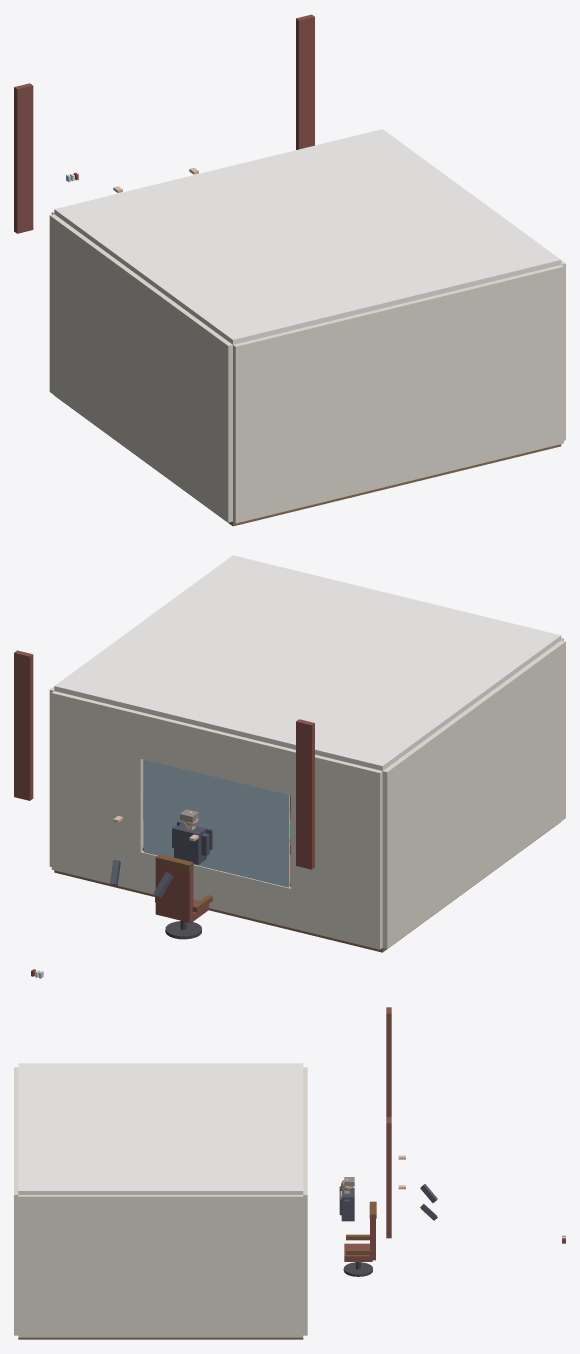
The model's file is maire-bureau.glb.
The picture shows the model from 3 angles, top to bottom: view 1: azimuth 30°, elevation 25°; view 2: azimuth 150°, elevation 25°; view 3: azimuth 270°, elevation 25°; orthographic projection. The views are drawn at different scales.
Parts seen in each view (by area): view 1: part_ceiling, part_wall_B, part_wall_L, part_curtain_l, part_curtain_r, part_floor; view 2: part_ceiling, part_wall_L, part_wall_F_r, part_wall_F_l, part_window, part_wall_F_t, part_wall_F_b, part_curtain_r, part_curtain_l, part_arm_back, part_floor, part_mayor_torso (+1 smaller); view 3: part_wall_R, part_ceiling, part_wall_B, part_wall_F_r, part_floor, part_curtain_r, part_curtain_l.
Boxes of the visible parts, x1,y1,x2,y2 form: part_ceiling: [54, 129, 561, 344]; part_wall_B: [233, 265, 563, 523]; part_wall_L: [49, 214, 232, 522]; part_curtain_l: [14, 83, 33, 233]; part_curtain_r: [296, 14, 314, 149]; part_floor: [54, 395, 561, 526]; part_ceiling: [54, 555, 561, 770]; part_wall_L: [382, 640, 565, 948]; part_wall_F_r: [51, 691, 143, 891]; part_wall_F_l: [290, 749, 382, 949]; part_window: [143, 759, 289, 887]; part_wall_F_t: [140, 713, 292, 795]; part_wall_F_b: [140, 851, 290, 927]; part_curtain_r: [14, 650, 33, 800]; part_curtain_l: [296, 719, 314, 869]; part_arm_back: [155, 862, 193, 922]; part_floor: [54, 821, 560, 952]; part_mayor_torso: [174, 823, 206, 864]; part_wall_R: [18, 1195, 303, 1337]; part_ceiling: [18, 1063, 303, 1194]; part_wall_B: [14, 1067, 18, 1335]; part_wall_F_r: [303, 1160, 307, 1335]; part_floor: [18, 1337, 303, 1339]; part_curtain_r: [386, 1117, 391, 1238]; part_curtain_l: [386, 1007, 391, 1116].
Size of the model in its own units: 7.2 by 5.38 by 12.79.
